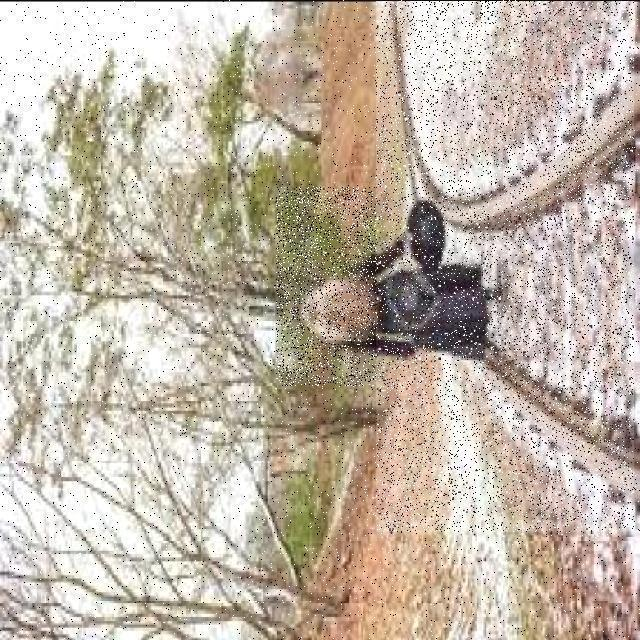rail: (377, 2, 635, 533)
